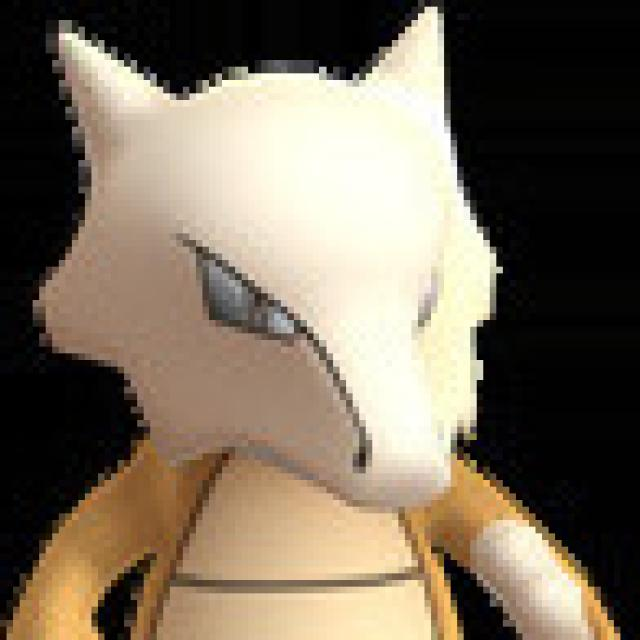Marowak: (41, 11, 517, 640)
